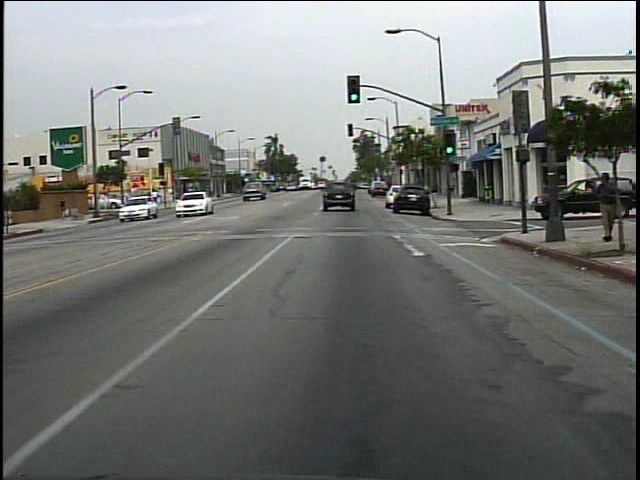person: (589, 166, 615, 248), (57, 194, 76, 222), (149, 185, 165, 210)
